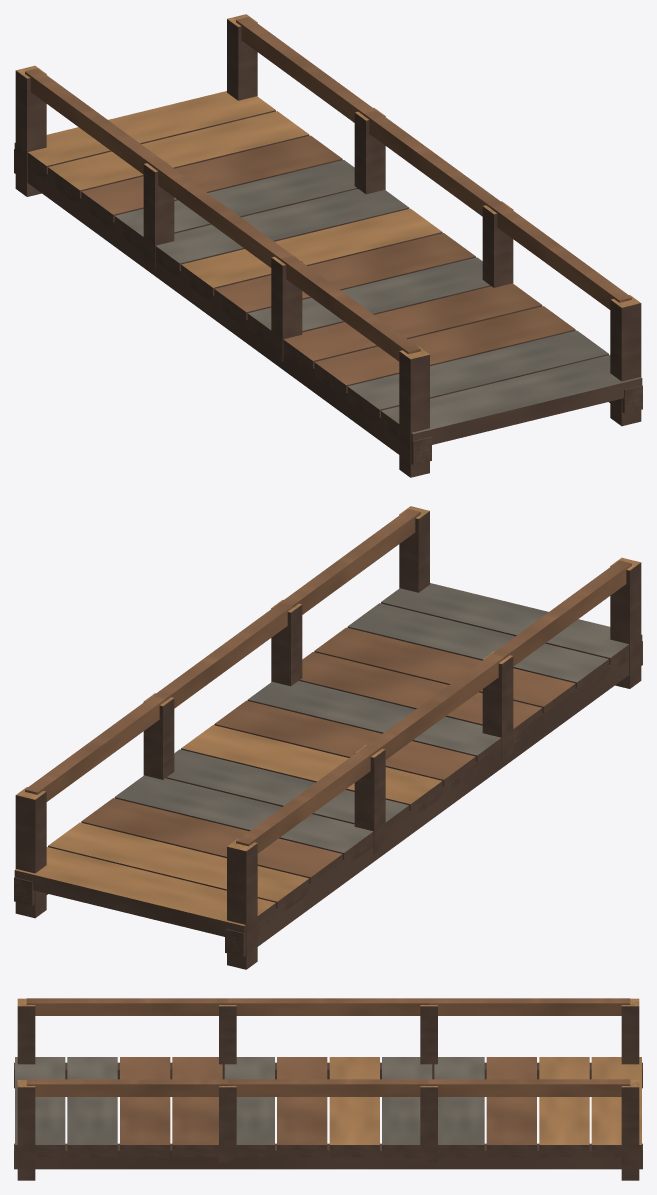
File: bridge_wood_S.fbx
3 views of the same model, one above another, from view 1: azimuth 30°, elevation 25°; view 2: azimuth 150°, elevation 25°; view 3: azimuth 270°, elevation 25° (orthographic). The views are drawn at different scales.
Parts seen in each view (by area): view 1: bridge_wood_S; view 2: bridge_wood_S; view 3: bridge_wood_S.
Part boxes in pixels (<box>): bridge_wood_S: <box>14,14,642,477</box>; bridge_wood_S: <box>14,506,642,969</box>; bridge_wood_S: <box>14,998,642,1180</box>.
Size of the model in its own units: 200 by 100 by 600.
Materials: 1 (1 with a texture image).
